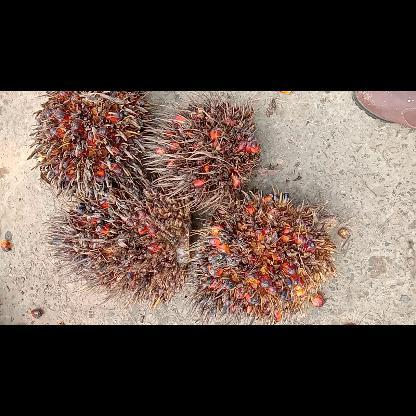Terlalu masak: (184, 174, 342, 324), (41, 165, 194, 311), (140, 90, 262, 218), (26, 91, 156, 201)
